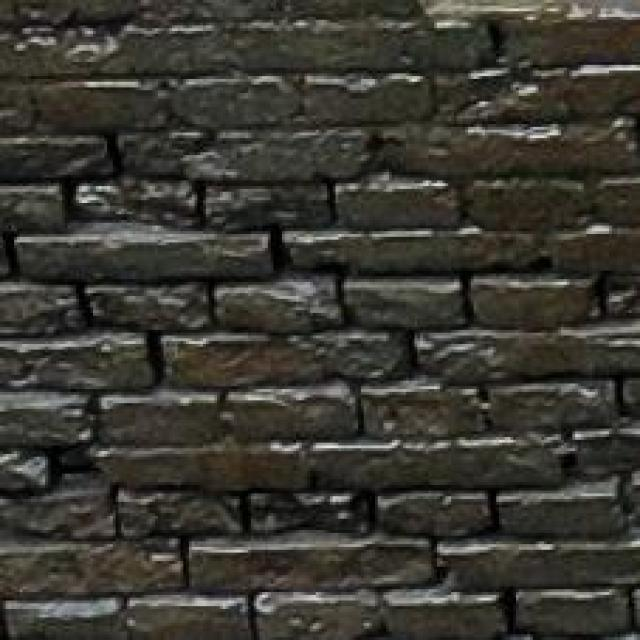Crack: (0, 91, 640, 501)
